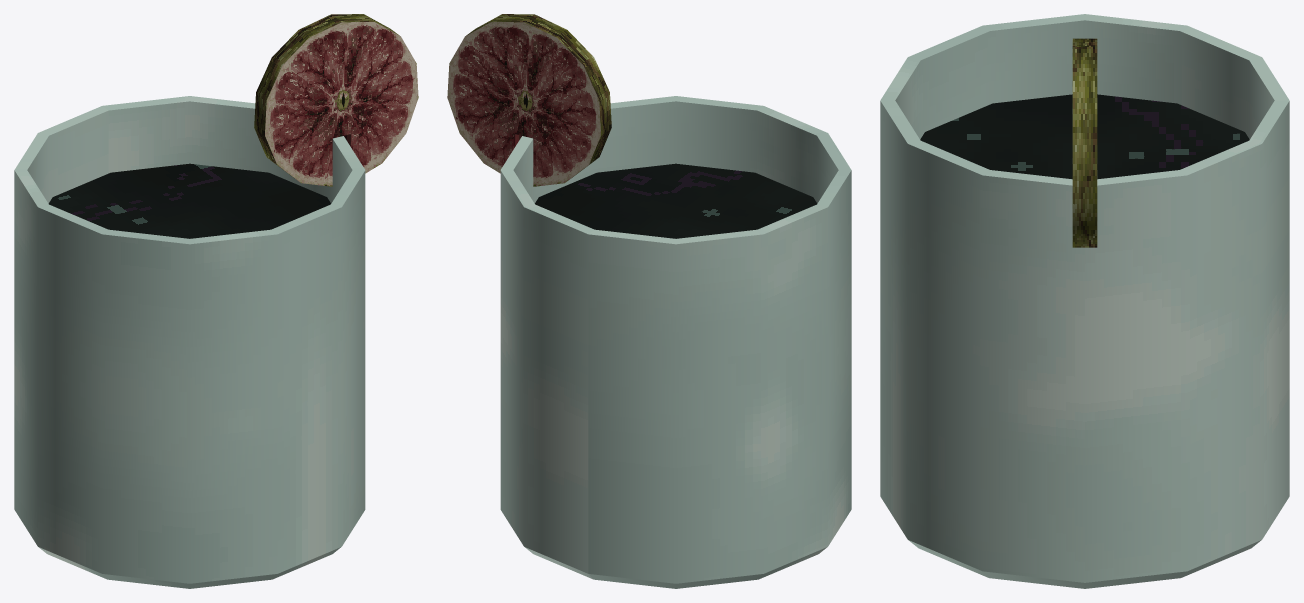
Rendered from HB_Drink_LowTide.glb.
3 views of the same model, side by side, from view 1: azimuth 30°, elevation 25°; view 2: azimuth 150°, elevation 25°; view 3: azimuth 270°, elevation 25° (orthographic). The views are drawn at different scales.
Parts seen in each view (by area): view 1: HB_Drink_LowTide_Glass, HB_Drink_LowTide_Garnish, HB_Drink_LowTide_Liquid; view 2: HB_Drink_LowTide_Glass, HB_Drink_LowTide_Garnish, HB_Drink_LowTide_Liquid; view 3: HB_Drink_LowTide_Glass, HB_Drink_LowTide_Liquid, HB_Drink_LowTide_Garnish.
Part boxes in pixels (left/top/right/bottom): HB_Drink_LowTide_Glass: left=14, top=96, right=365, bottom=588; HB_Drink_LowTide_Garnish: left=254, top=14, right=418, bottom=186; HB_Drink_LowTide_Liquid: left=48, top=163, right=330, bottom=238; HB_Drink_LowTide_Glass: left=500, top=96, right=851, bottom=588; HB_Drink_LowTide_Garnish: left=447, top=14, right=611, bottom=186; HB_Drink_LowTide_Liquid: left=535, top=163, right=817, bottom=238; HB_Drink_LowTide_Glass: left=880, top=14, right=1289, bottom=588; HB_Drink_LowTide_Liquid: left=920, top=94, right=1249, bottom=179; HB_Drink_LowTide_Garnish: left=1072, top=38, right=1097, bottom=247.
Size of the model in its own units: 0.1012 by 0.1199 by 0.082.
Materials: 3 (3 with a texture image).
